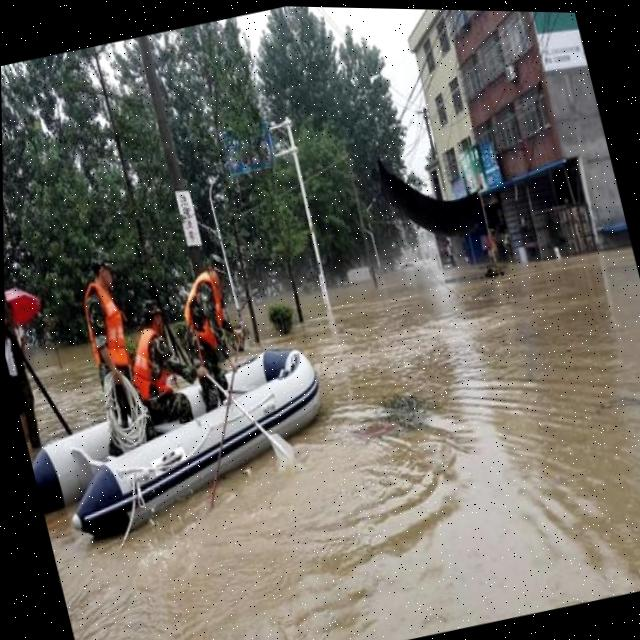rescuer: (59, 248, 164, 464), (104, 281, 212, 445), (166, 236, 261, 408)
